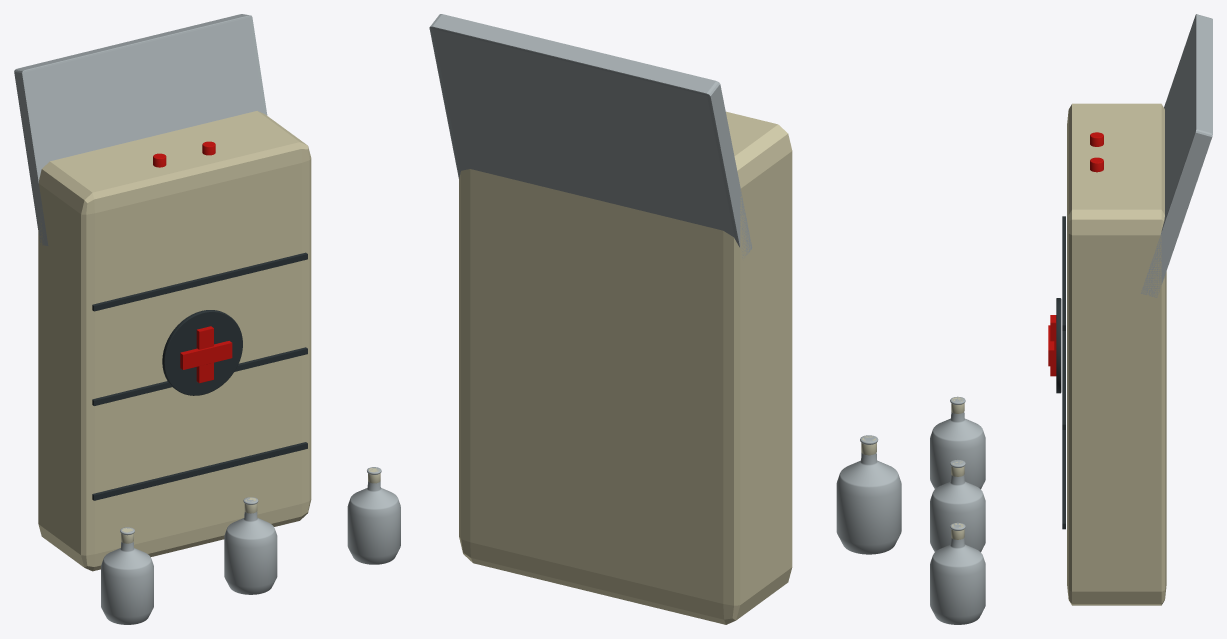
The picture shows the model from 3 angles, left to right: view 1: azimuth 30°, elevation 25°; view 2: azimuth 150°, elevation 25°; view 3: azimuth 270°, elevation 25°; orthographic projection. The views are drawn at different scales.
Visible parts, largest first — view 1: TI069 / upright medical case, TI069 / raised case cover, TI069 / bottle body.001, TI069 / round medical badge, TI069 / bottle body.002, TI069 / bottle body, TI069 / case seam.002, TI069 / case seam, TI069 / case seam.001, TI069 / medical cross arm, TI069 / medical cross upright; view 2: TI069 / upright medical case, TI069 / raised case cover, TI069 / bottle body; view 3: TI069 / upright medical case, TI069 / raised case cover, TI069 / bottle body.002, TI069 / bottle body.001, TI069 / bottle body, TI069 / round medical badge, TI069 / case seam.002, TI069 / case seam.
Part boxes in pixels (<box>): TI069 / upright medical case: <box>38,111,311,571</box>; TI069 / raised case cover: <box>14,14,267,245</box>; TI069 / bottle body.001: <box>224,497,277,594</box>; TI069 / round medical badge: <box>162,310,242,395</box>; TI069 / bottle body.002: <box>347,467,400,564</box>; TI069 / bottle body: <box>101,527,153,624</box>; TI069 / case seam.002: <box>92,252,307,311</box>; TI069 / case seam: <box>92,442,307,500</box>; TI069 / case seam.001: <box>92,347,307,405</box>; TI069 / medical cross arm: <box>180,341,232,369</box>; TI069 / medical cross upright: <box>196,326,213,383</box>; TI069 / upright medical case: <box>459,111,792,624</box>; TI069 / raised case cover: <box>429,14,752,258</box>; TI069 / bottle body: <box>836,435,901,554</box>; TI069 / upright medical case: <box>1067,103,1166,605</box>; TI069 / raised case cover: <box>1141,14,1212,297</box>; TI069 / bottle body.002: <box>930,522,985,624</box>; TI069 / bottle body.001: <box>930,459,985,551</box>; TI069 / bottle body: <box>930,396,985,488</box>; TI069 / round medical badge: <box>1056,298,1061,393</box>; TI069 / case seam.002: <box>1062,216,1065,330</box>; TI069 / case seam: <box>1062,430,1065,529</box>.
Size of the model in its own units: 1.78 by 2.67 by 1.42.
